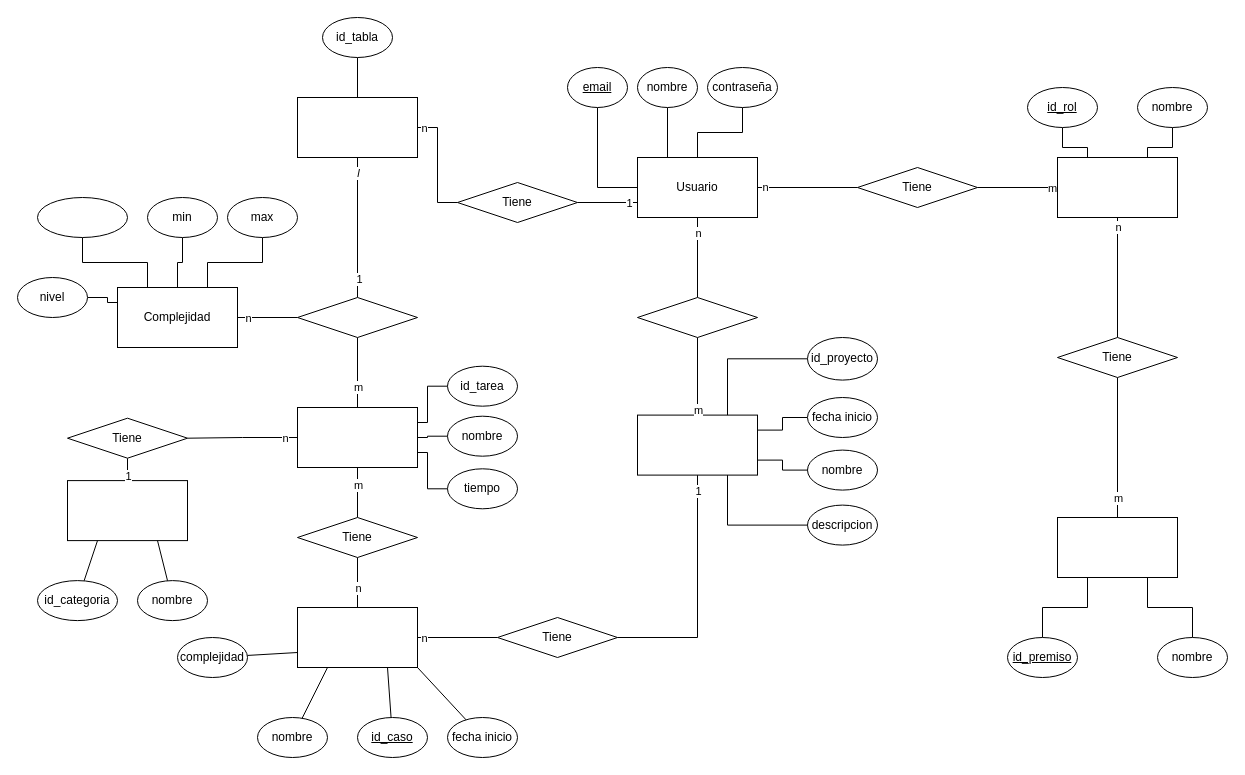
The diagram is 1245 pixels wide and 775 high, and some of its shapes have lost their labels. Each missing label, with the box of its shape:
Caso_Uso: (296, 606, 418, 668)
Categoria: (66, 480, 188, 541)
está en: (636, 296, 758, 338)
fila complejidad_tarea: (296, 296, 418, 338)
id_complejidad: (36, 196, 128, 238)
Permisos: (1056, 516, 1178, 578)
Proyecto: (636, 414, 758, 475)
Puntos_Agiles: (296, 96, 418, 158)
Rol: (1056, 156, 1178, 218)
Tarea: (296, 406, 418, 468)
